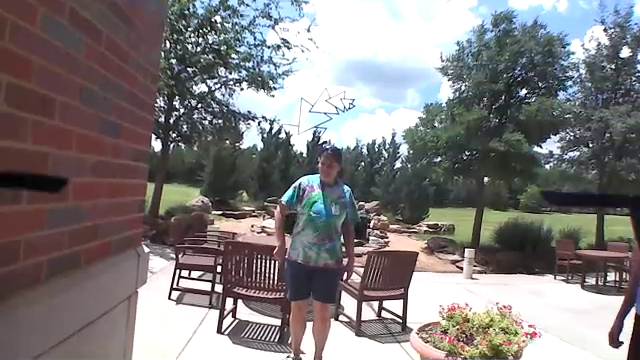down: (268, 241, 287, 273)
